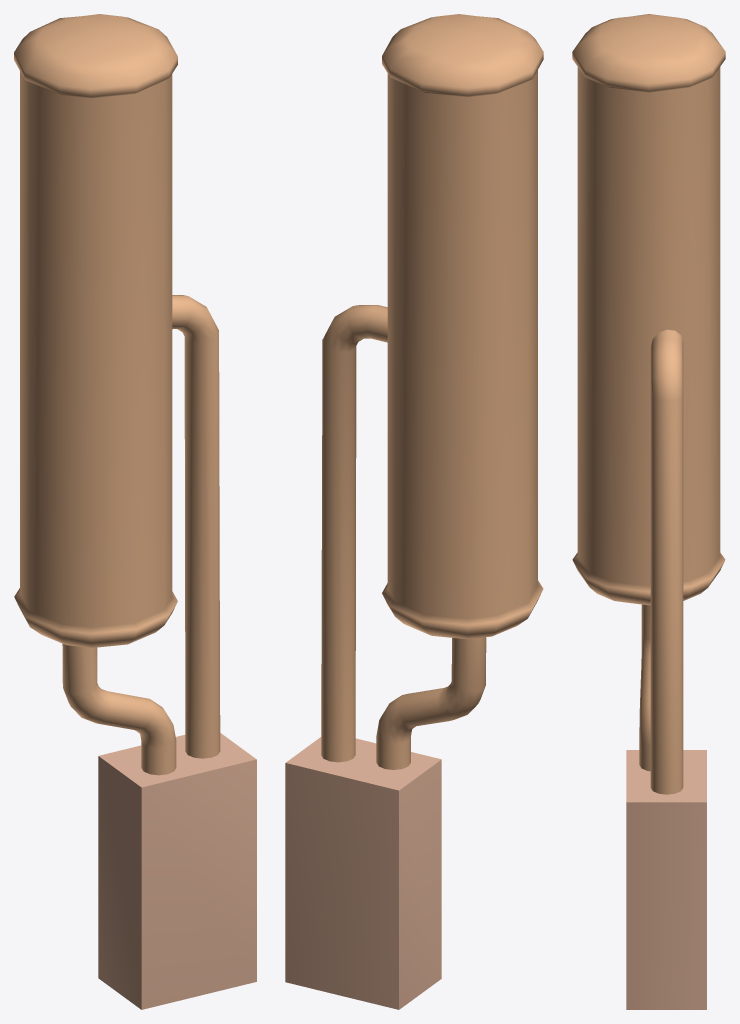
Rendered from SP_House08_Pipe03.fbx.
3 renders of one model, left to right at view 1: azimuth 30°, elevation 25°; view 2: azimuth 150°, elevation 25°; view 3: azimuth 270°, elevation 25°, orthographic. The views are drawn at different scales.
Parts seen in each view (by area): view 1: SP_House08_Pipe03; view 2: SP_House08_Pipe03; view 3: SP_House08_Pipe03.
Part boxes in pixels (bbox=[...]): SP_House08_Pipe03: bbox=[14, 14, 256, 1009]; SP_House08_Pipe03: bbox=[285, 14, 543, 1009]; SP_House08_Pipe03: bbox=[572, 14, 725, 1009].
Size of the model in its own units: 0.9417 by 4 by 0.6095.
